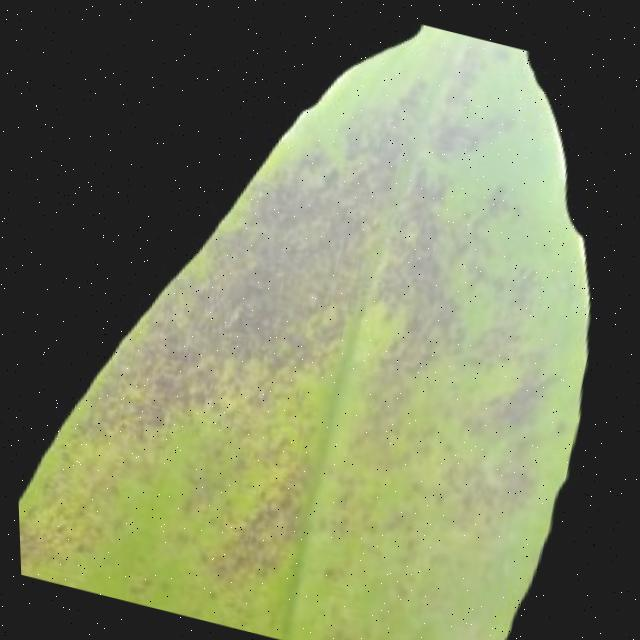mite: (216, 482, 295, 580), (422, 109, 481, 163), (118, 567, 148, 599), (313, 555, 339, 582), (198, 584, 214, 600)
spots: (11, 2, 640, 640)
